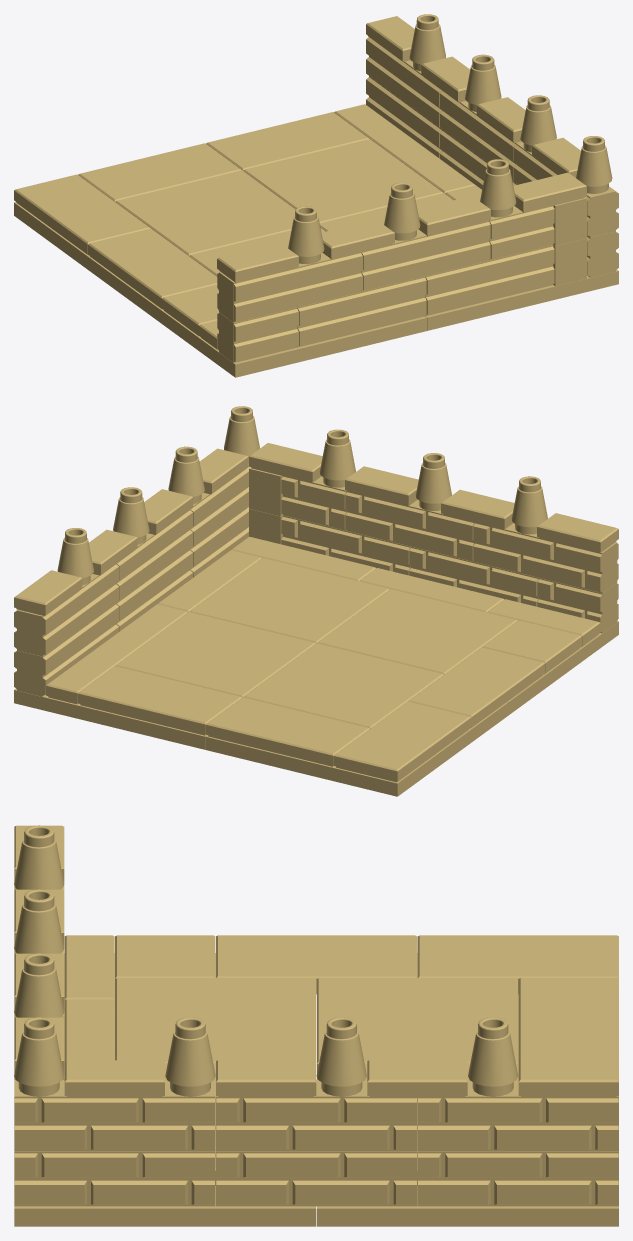
Rendered from castleOpenCorner.fbx.
The picture shows the model from 3 angles, top to bottom: view 1: azimuth 30°, elevation 25°; view 2: azimuth 150°, elevation 25°; view 3: azimuth 270°, elevation 25°; orthographic projection. The views are drawn at different scales.
Parts seen in each view (by area): view 1: Ground, WallSide, Wall; view 2: Ground, WallSide, Wall; view 3: Wall, Ground, WallSide.
Boxes of the visible parts, x1,y1,x2,y2 form: Ground: (14,104,618,377); WallSide: (217,159,586,362); Wall: (366,14,618,277); Ground: (14,536,618,796); WallSide: (249,429,618,633); Wall: (14,406,259,696); Wall: (14,1017,618,1206); Ground: (14,935,618,1226); WallSide: (14,825,64,1079).
Size of the model in its own units: 9596 by 3378 by 9596.
